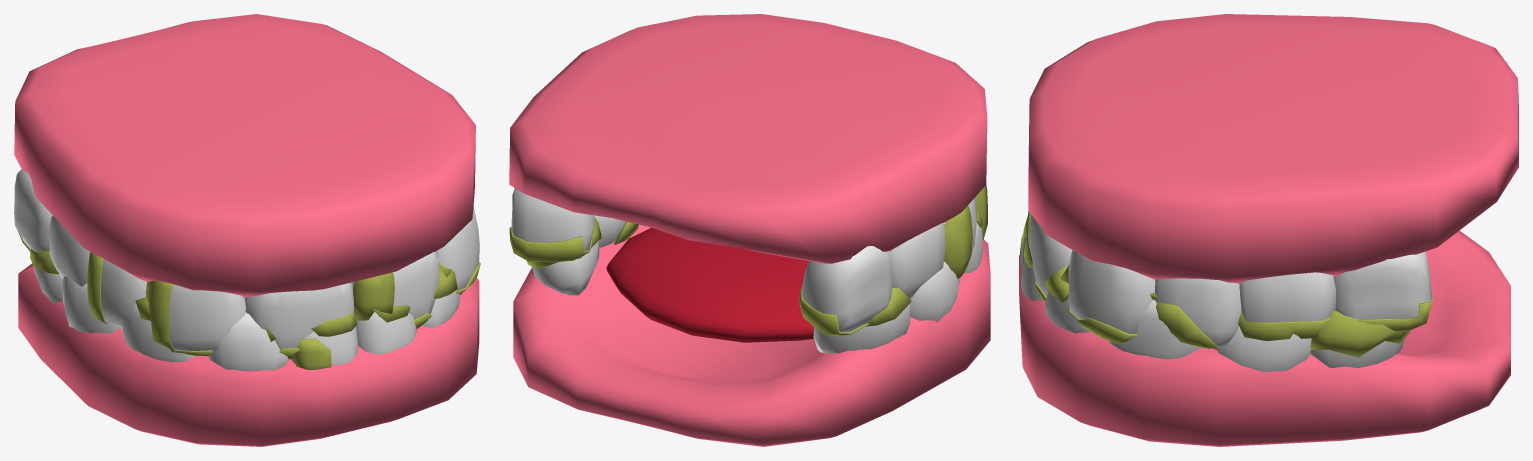
The model's file is jaw.fbx.
3 renders of one model, left to right at view 1: azimuth 30°, elevation 25°; view 2: azimuth 150°, elevation 25°; view 3: azimuth 270°, elevation 25°, orthographic. The views are drawn at different scales.
Visible parts, largest first — view 1: Jaw_u.001, Jaw_d.001, tooth_u.030, tooth_u.029, tooth_d.031, tooth_u.031, tooth_u.026, tooth_u.028, tooth_d.033, tooth_u.032, tooth_u.027, tooth_u.042 (+11 smaller); view 2: Jaw_u.001, Jaw_d.001, Sphere.010, tooth_u.026, tooth_u.025, tooth_u.027, tooth_d.028, tooth_d.029, tooth_d.027, tooth_u.035, tooth_u.046, tooth_u.048 (+2 smaller); view 3: Jaw_u.001, Jaw_d.001, tooth_u.025, tooth_u.032, tooth_u.034, tooth_u.033, tooth_d.036, tooth_d.037, tooth_d.035, tooth_u.031, tooth_u.037, tooth_d.027 (+7 smaller).
Part boxes in pixels (<box>): Jaw_u.001: <box>14,14,475,297</box>; Jaw_d.001: <box>18,263,479,446</box>; tooth_u.030: <box>245,282,354,349</box>; tooth_u.029: <box>169,284,245,351</box>; tooth_d.031: <box>208,312,288,371</box>; tooth_u.031: <box>352,251,439,319</box>; tooth_u.026: <box>14,169,52,252</box>; tooth_u.028: <box>101,259,146,326</box>; tooth_d.033: <box>356,312,416,354</box>; tooth_u.032: <box>437,206,479,290</box>; tooth_u.027: <box>49,215,90,286</box>; tooth_u.042: <box>353,272,394,320</box>; Jaw_u.001: <box>509,14,987,263</box>; Jaw_d.001: <box>513,224,990,446</box>; Sphere.010: <box>606,227,813,342</box>; tooth_u.026: <box>801,246,892,332</box>; tooth_u.025: <box>511,188,594,250</box>; tooth_u.027: <box>889,223,945,298</box>; tooth_d.028: <box>813,304,910,353</box>; tooth_d.029: <box>910,261,959,322</box>; tooth_d.027: <box>531,240,599,295</box>; tooth_u.035: <box>509,227,592,262</box>; tooth_u.046: <box>943,205,972,278</box>; tooth_u.048: <box>799,289,869,336</box>; Jaw_u.001: <box>1028,14,1518,283</box>; Jaw_d.001: <box>1019,230,1510,446</box>; tooth_u.025: <box>1333,251,1431,319</box>; tooth_u.032: <box>1068,250,1155,333</box>; tooth_u.034: <box>1239,272,1335,322</box>; tooth_u.033: <box>1155,278,1241,346</box>; tooth_d.036: <box>1213,326,1311,371</box>; tooth_d.037: <box>1310,311,1409,357</box>; tooth_d.035: <box>1109,300,1200,359</box>; tooth_u.031: <box>1029,215,1072,296</box>; tooth_u.037: <box>1156,302,1217,348</box>; tooth_d.027: <box>1310,339,1404,368</box>.
Size of the model in its own units: 451 by 288 by 494.
